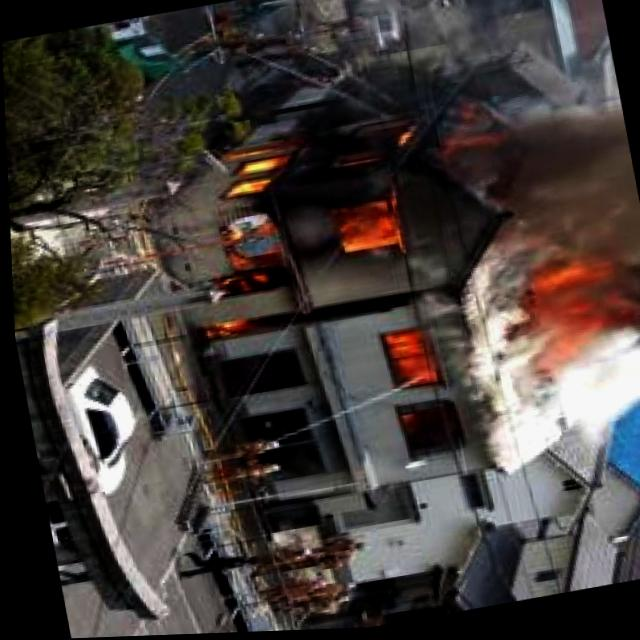Fire: (153, 68, 506, 353), (377, 332, 444, 432)
Smoke: (426, 102, 640, 482)
